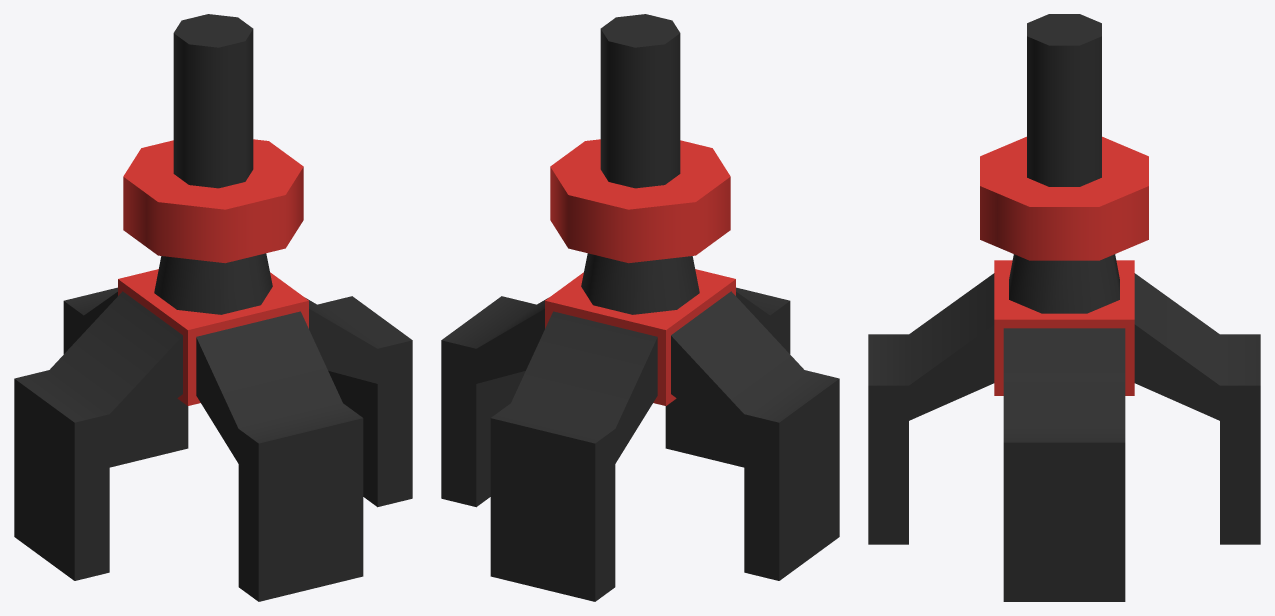
The model's file is turret_bottom.fbx.
3 renders of one model, left to right at view 1: azimuth 30°, elevation 25°; view 2: azimuth 150°, elevation 25°; view 3: azimuth 270°, elevation 25°, orthographic.
Visible parts, largest first — view 1: Cylinder; view 2: Cylinder; view 3: Cylinder.
Part boxes in pixels (bbox=[...]): Cylinder: bbox=[14, 14, 412, 601]; Cylinder: bbox=[441, 14, 839, 601]; Cylinder: bbox=[868, 14, 1260, 601].
Size of the model in its own units: 1.23 by 1.69 by 1.23.
